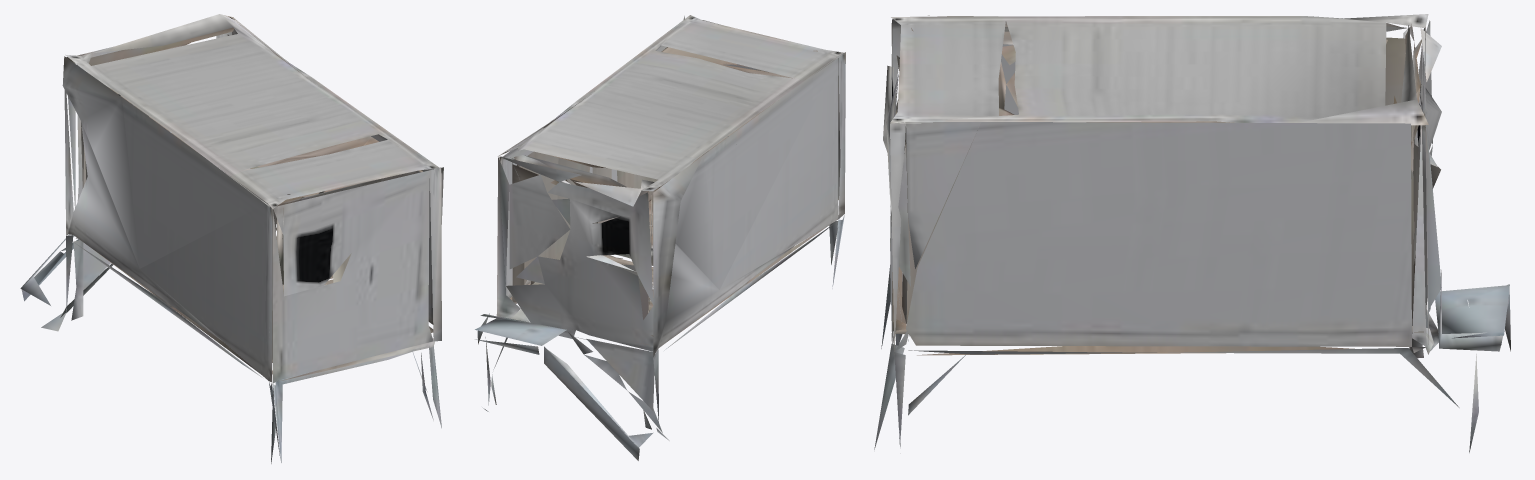
File: steinbruch_buero_lo.glb
3 views of the same model, side by side, from view 1: azimuth 30°, elevation 25°; view 2: azimuth 150°, elevation 25°; view 3: azimuth 270°, elevation 25° (orthographic). The views are drawn at different scales.
Visible parts, largest first — view 1: Prop; view 2: Prop; view 3: Prop.
Boxes of the visible parts, <box> form: Prop: <box>20,14,443,463</box>; Prop: <box>475,15,845,460</box>; Prop: <box>874,14,1510,453</box>.
Bounding box in the file's own units: 0.7603 × 1.02 × 1.67.
Materials: 1 (1 with a texture image).
